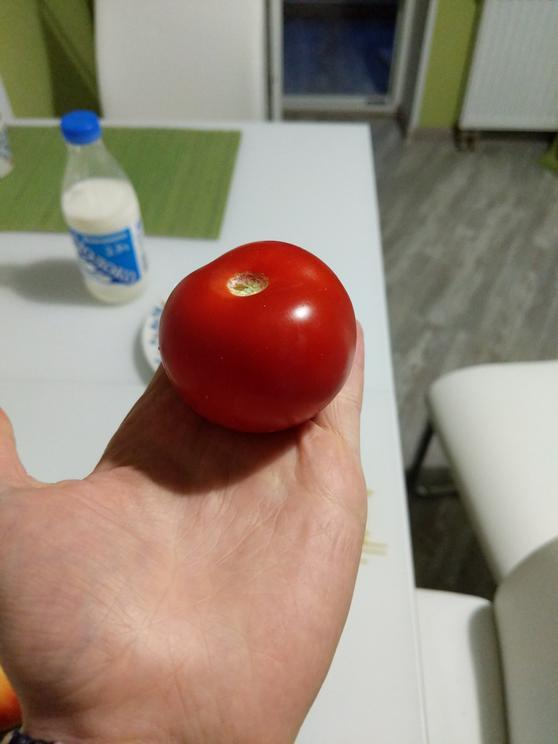milk: (48, 96, 153, 319)
potato: (146, 235, 374, 436)
